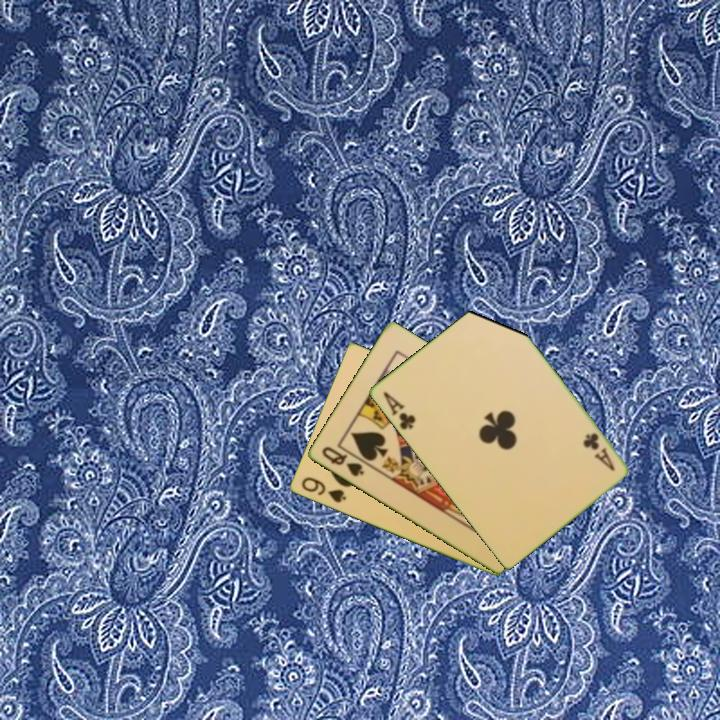9s: (297, 473, 349, 506)
Ac: (379, 388, 418, 433), (579, 429, 618, 474)
Qs: (318, 443, 366, 480)
